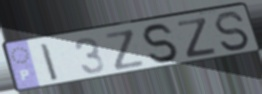3: (74, 36, 106, 75)
I: (38, 41, 62, 83)
S: (140, 22, 183, 65), (212, 10, 253, 53)
Z: (102, 27, 148, 72), (176, 16, 218, 60)
